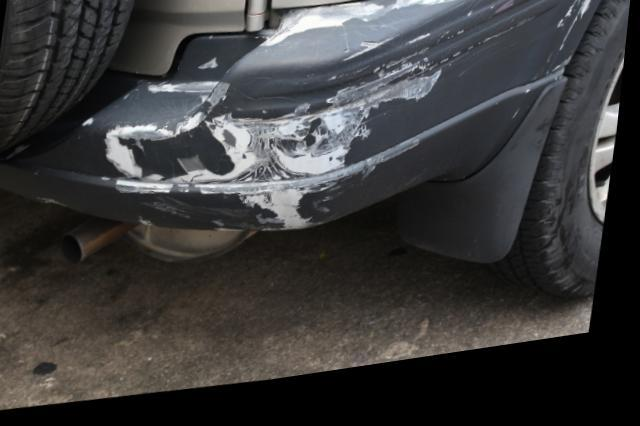scratch: (108, 0, 522, 241)
